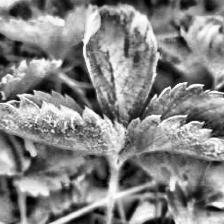Powdery Mildew Leaf: (81, 4, 158, 126), (118, 81, 224, 169), (0, 88, 124, 157)
